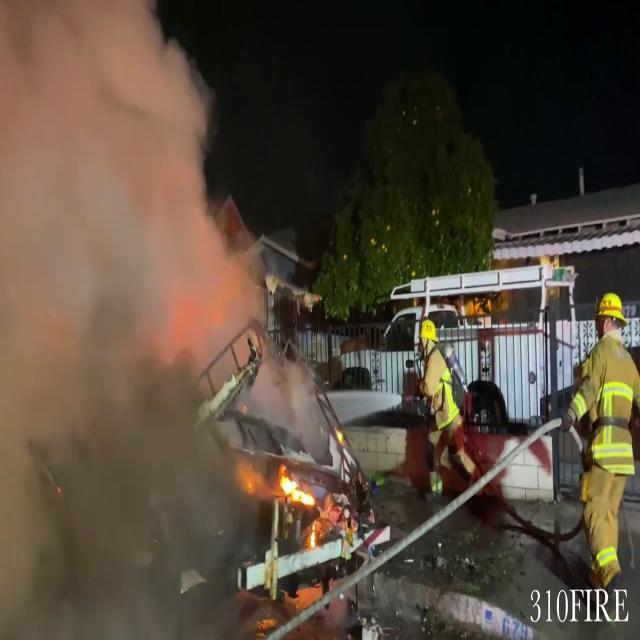Fire: (273, 465, 319, 514)
Smoke: (0, 1, 297, 634)
